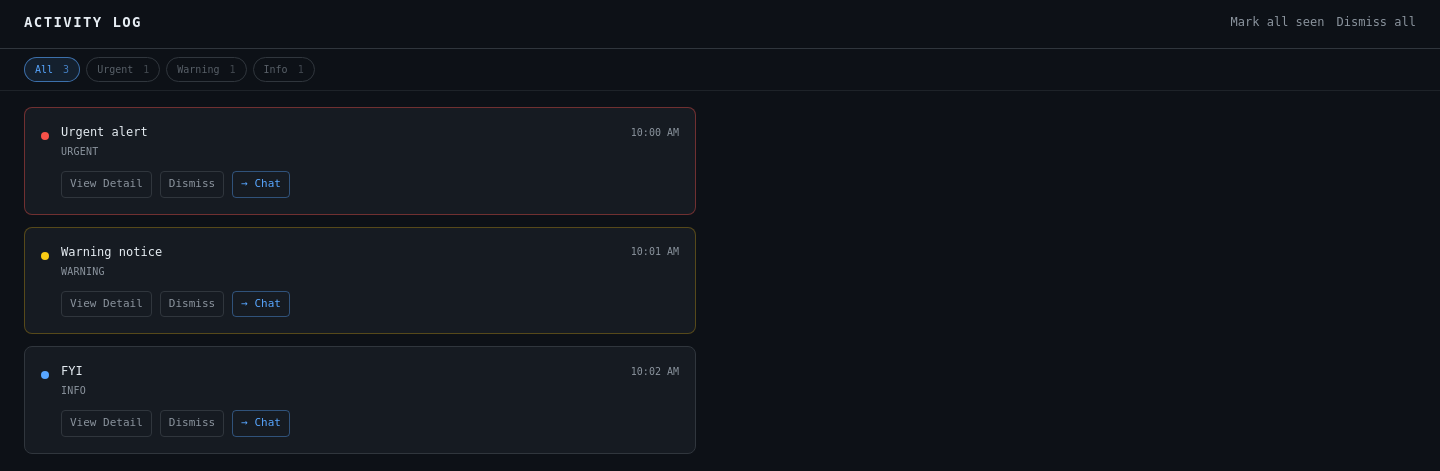
InboxView – severity filter chips › clicking Urgent chip filters visible list to urgent only
The image size is (1440, 471).
What coordinates should you click on to do the following:
click the button "Urgent 1"
I would click on:
 (123, 70)
Its box is 86,57 -> 160,82.
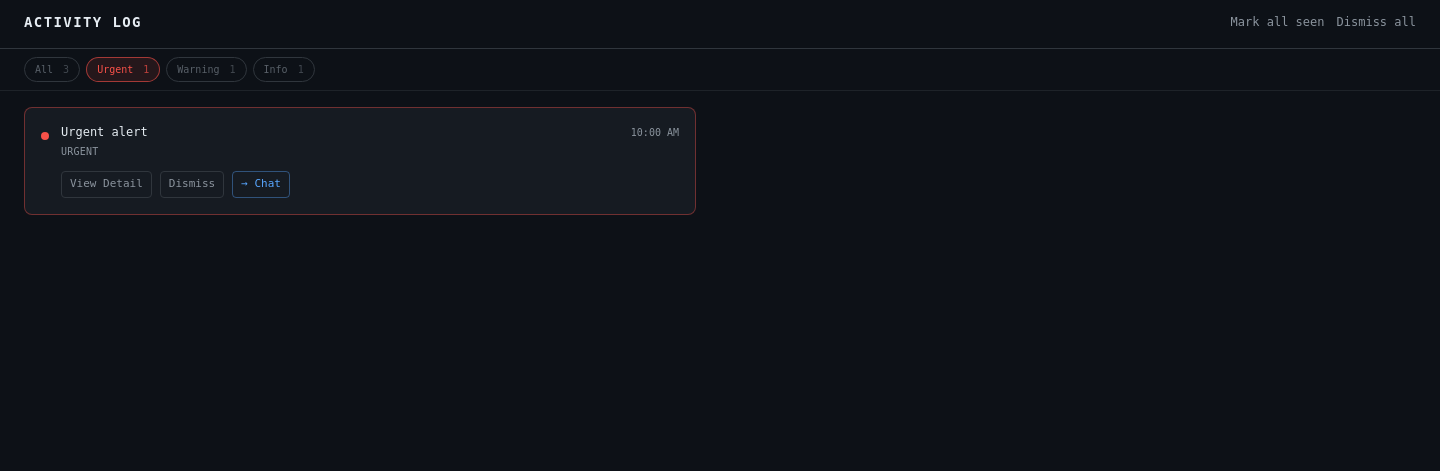
Check: the number of elements with test id "notification-item" is 1, box 24,107 -> 696,214
